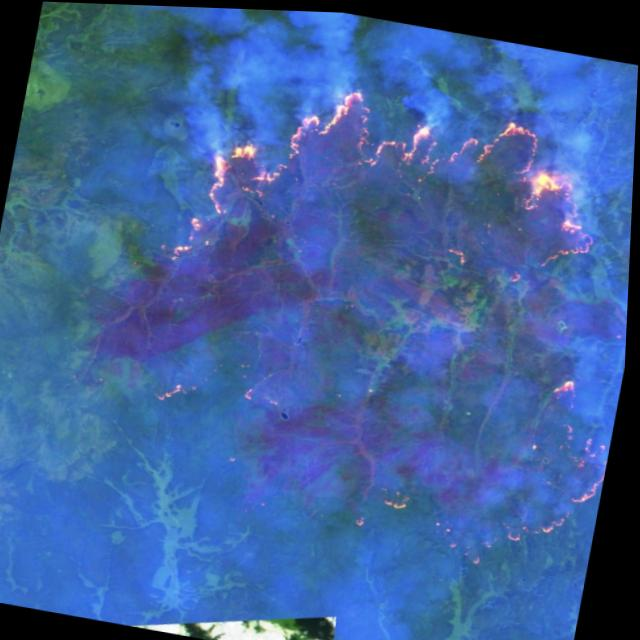fire: (160, 52, 620, 328), (519, 360, 626, 559)
